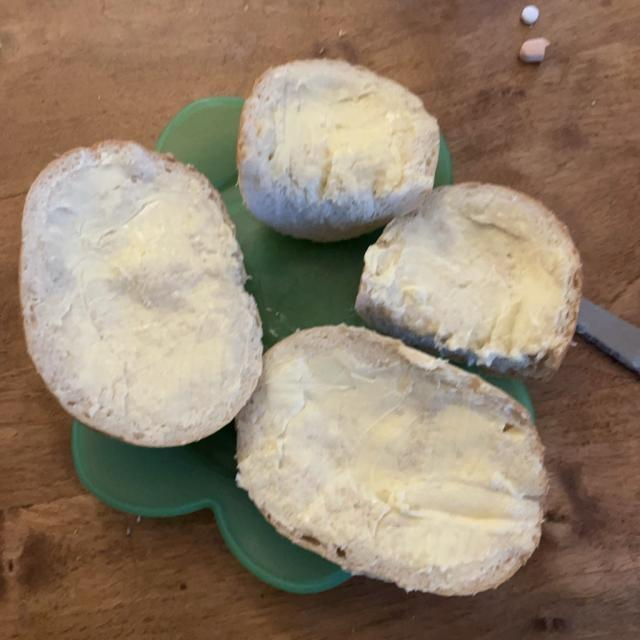bread: (24, 61, 579, 589)
butter: (39, 93, 561, 577)
